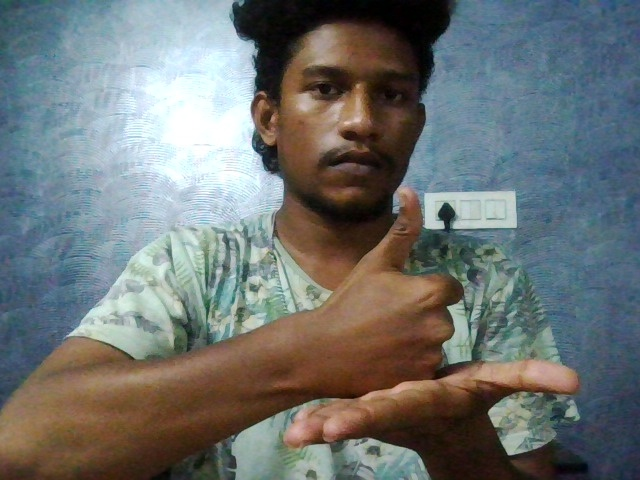help: (252, 177, 596, 448)
